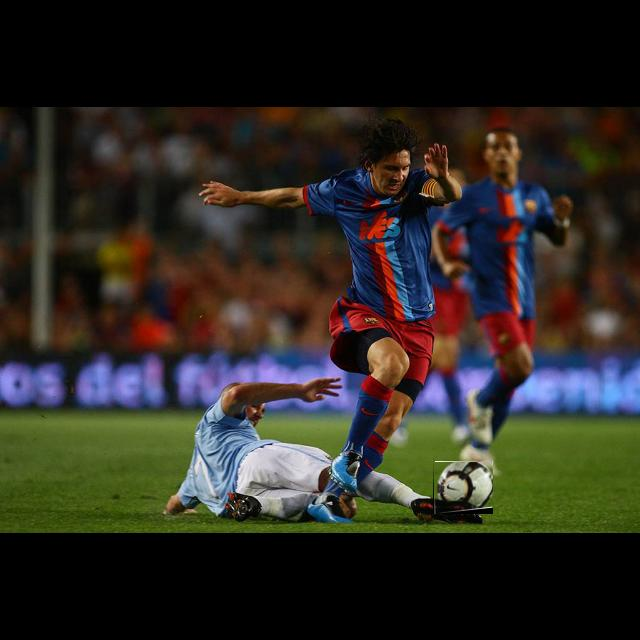Football: (433, 462, 493, 514)
